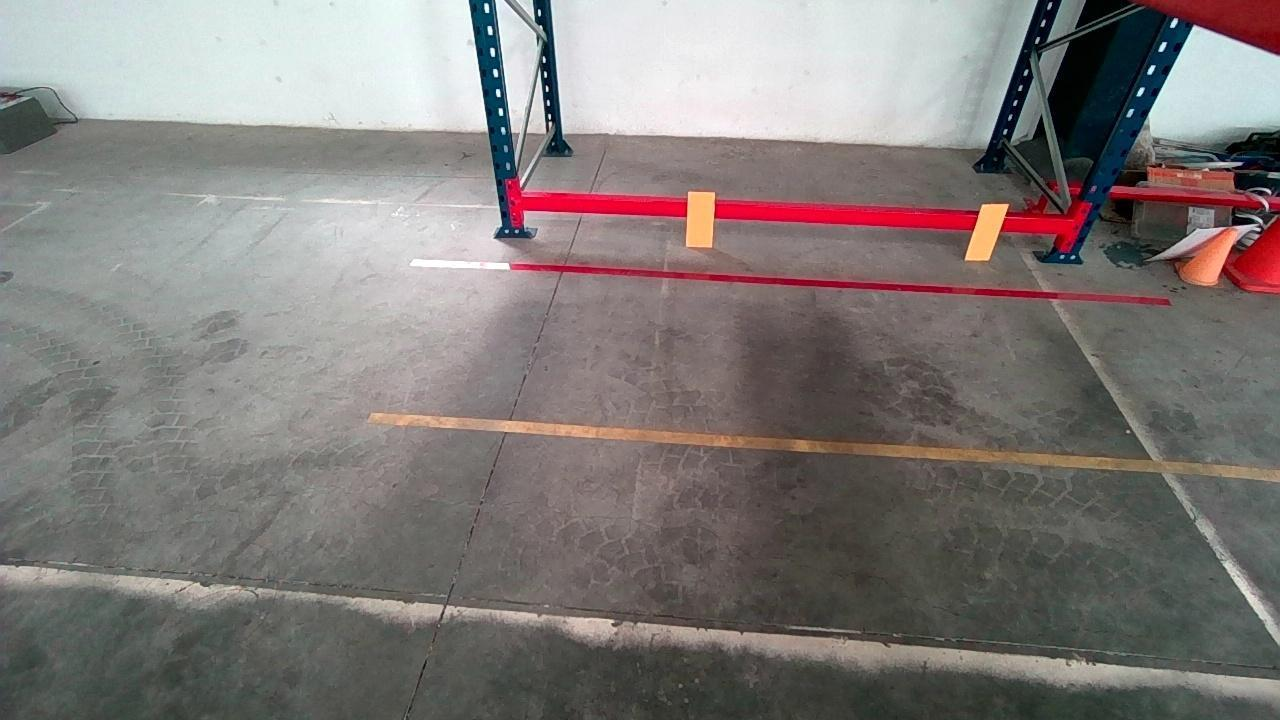h_rack: (517, 194, 1071, 233)
orange_strip: (966, 203, 1010, 259), (687, 190, 716, 245)
red_line: (407, 259, 1172, 302)
yellow_line: (367, 413, 1280, 484)
